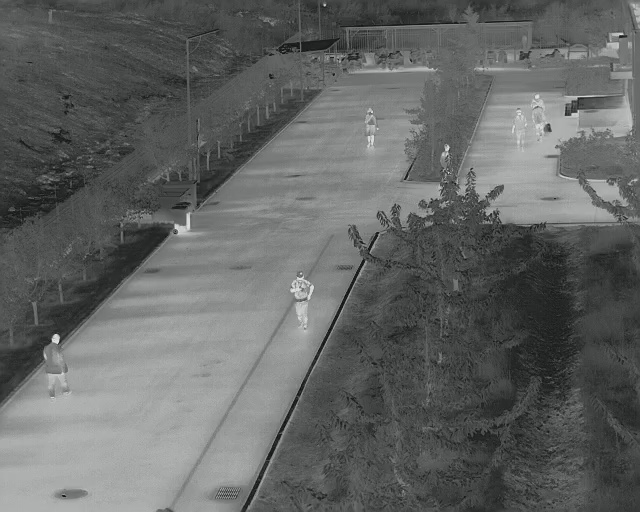person: (41, 331, 73, 403), (287, 268, 314, 334), (510, 105, 528, 151), (362, 106, 379, 151), (529, 101, 546, 142), (440, 143, 451, 176)
